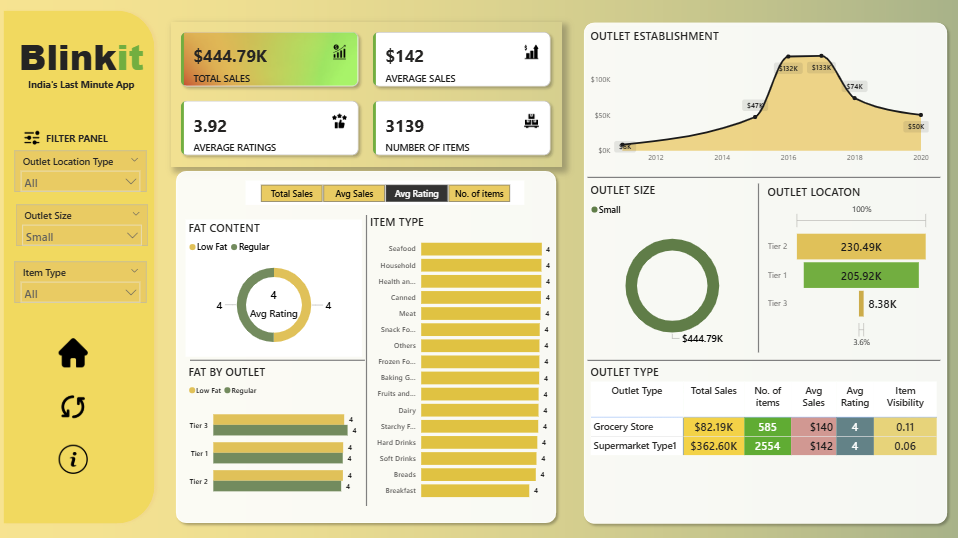

The page's visual inventory and layout, read from the dashboard file:
{"tool":"powerbi","page":{"name":"Dashboard","canvas":[1600,900],"ordinal":0},"visuals":[{"type":"shape","box":[0,10,270,873.3],"z":0},{"type":"textbox","box":[30,48.6,232.9,95.7],"z":1000},{"type":"textbox","box":[44.3,125.7,205.7,37.1],"z":2000},{"type":"cardVisual","fields":{"Data":["BlinkIT Grocery Data.Total Sales","BlinkIT Grocery Data.Avg Sales","BlinkIT Grocery Data.Avg Rating","BlinkIT Grocery Data.Number of items"]},"box":[286.7,36.7,651.7,241.7],"z":3000},{"type":"shape","box":[286.7,278.3,651.7,605],"z":4000},{"type":"donutChart","title":"FAT CONTENT","fields":{"Y":["BlinkIT Grocery Data.Avg Rating"],"Category":["BlinkIT Grocery Data.Item Fat Content"]},"box":[311.7,367.3,294.3,228.6],"z":5000},{"type":"slicer","fields":{"Values":["Metrics.Metrics"]},"box":[413.2,301.6,464.5,40.7],"z":6000},{"type":"card","fields":{"Values":["BlinkIT Grocery Data.Avg Rating"]},"box":[406.7,456.7,103.3,95],"z":7000},{"type":"clusteredBarChart","title":"FAT BY OUTLET","fields":{"Y":["BlinkIT Grocery Data.Avg Rating"],"Category":["BlinkIT Grocery Data.Outlet Location Type"],"Series":["BlinkIT Grocery Data.Item Fat Content"]},"box":[311.7,606.7,295,238.3],"z":8000},{"type":"shape","box":[320,580,291.4,44.3],"z":9000},{"type":"shape","box":[595,360,38.3,485],"z":10000},{"type":"barChart","title":"ITEM TYPE","fields":{"Y":["BlinkIT Grocery Data.Avg Rating"],"Category":["BlinkIT Grocery Data.Item Type"]},"box":[615,356.7,310,488.3],"z":11000},{"type":"shape","box":[966.7,30,623.3,853.3],"z":12000},{"type":"lineChart","title":"OUTLET ESTABLISHMENT","fields":{"Category":["BlinkIT Grocery Data.Outlet Establishment Year"],"Y":["BlinkIT Grocery Data.Total Sales"]},"box":[981.7,48.3,573.3,235],"z":13000},{"type":"shape","box":[981.7,279,588.1,34.7],"z":14000},{"type":"donutChart","title":"OUTLET SIZE","fields":{"Y":["BlinkIT Grocery Data.Total Sales"],"Category":["BlinkIT Grocery Data.Outlet Size"]},"box":[981.7,306.1,282,289.5],"z":15000},{"type":"shape","box":[1248.3,308.3,40,281.7],"z":16000},{"type":"funnel","title":"OUTLET LOCATON","fields":{"Y":["Sum(BlinkIT Grocery Data.Sales)"],"Category":["BlinkIT Grocery Data.Outlet Location Type"]},"box":[1276.7,308.3,278.3,280],"z":17000},{"type":"shape","box":[981.7,585.1,588.1,34.7],"z":18000},{"type":"pivotTable","title":"OUTLET TYPE","fields":{"Rows":["BlinkIT Grocery Data.Outlet Type"],"Values":["BlinkIT Grocery Data.Total Sales","BlinkIT Grocery Data.No. of items","BlinkIT Grocery Data.Avg Sales","BlinkIT Grocery Data.Avg Rating","Avg(BlinkIT Grocery Data.Item Visibility)"]},"box":[981.7,606.7,588.3,238.3],"z":19000},{"type":"slicer","fields":{"Values":["BlinkIT Grocery Data.Outlet Location Type"]},"box":[26.7,253.3,220,68.3],"z":20000},{"type":"slicer","fields":{"Values":["BlinkIT Grocery Data.Outlet Size"]},"box":[30,341.7,220,68.3],"z":21000},{"type":"slicer","fields":{"Values":["BlinkIT Grocery Data.Item Type"]},"box":[26.7,436.7,220,68.3],"z":22000},{"type":"textbox","box":[74.2,215.7,123.7,37.7],"z":23000},{"type":"image","box":[95,559.5,60.3,58.8],"z":24000},{"type":"image","box":[36.5,206.6,37.7,46.7],"z":25000},{"type":"image","box":[95,650,60.3,58.8],"z":26000},{"type":"image","box":[95,737.4,60.3,58.8],"z":28000}]}

Visuals, with their boxes in screenshot pixels (x1, y1, x2, y2), scaled from the page's 1600x900 canvas onto the 958x538 screenshot:
shape: locate(0, 6, 162, 528)
textbox: locate(18, 29, 157, 86)
textbox: locate(27, 75, 150, 97)
cardVisual - BlinkIT Grocery Data.Total Sales x BlinkIT Grocery Data.Avg Sales: locate(172, 22, 562, 166)
shape: locate(172, 166, 562, 528)
"FAT CONTENT" donutChart: locate(187, 220, 363, 356)
slicer - Metrics.Metrics: locate(247, 180, 526, 205)
card - BlinkIT Grocery Data.Avg Rating: locate(244, 273, 305, 330)
"FAT BY OUTLET" clusteredBarChart: locate(187, 363, 363, 505)
shape: locate(192, 347, 366, 373)
shape: locate(356, 215, 379, 505)
"ITEM TYPE" barChart: locate(368, 213, 554, 505)
shape: locate(579, 18, 952, 528)
"OUTLET ESTABLISHMENT" lineChart: locate(588, 29, 931, 169)
shape: locate(588, 167, 940, 188)
"OUTLET SIZE" donutChart: locate(588, 183, 757, 356)
shape: locate(747, 184, 771, 353)
"OUTLET LOCATON" funnel: locate(764, 184, 931, 352)
shape: locate(588, 350, 940, 371)
"OUTLET TYPE" pivotTable: locate(588, 363, 940, 505)
slicer - BlinkIT Grocery Data.Outlet Location Type: locate(16, 151, 148, 192)
slicer - BlinkIT Grocery Data.Outlet Size: locate(18, 204, 150, 245)
slicer - BlinkIT Grocery Data.Item Type: locate(16, 261, 148, 302)
textbox: locate(44, 129, 118, 151)
image: locate(57, 334, 93, 370)
image: locate(22, 124, 44, 151)
image: locate(57, 389, 93, 424)
image: locate(57, 441, 93, 476)
